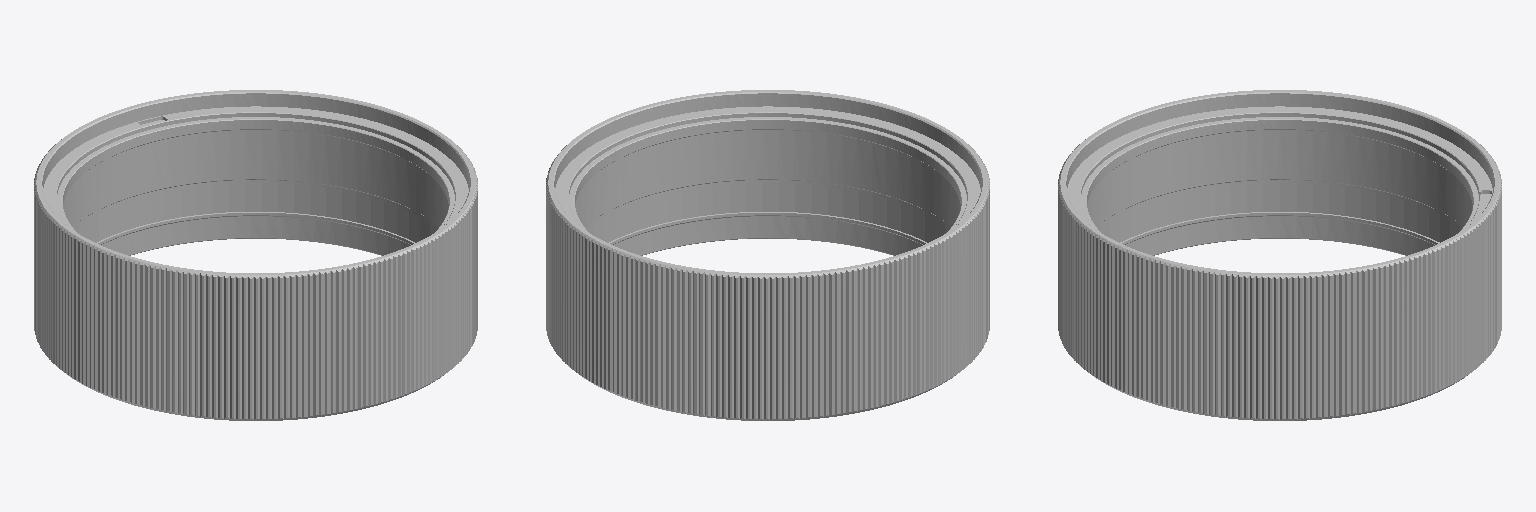
Rendered from ase022_E_2.obj.
3 views of the same model, side by side, from view 1: azimuth 30°, elevation 25°; view 2: azimuth 150°, elevation 25°; view 3: azimuth 270°, elevation 25° (orthographic).
Visible parts, largest first — view 1: object 1; view 2: object 1; view 3: object 1.
Boxes of the visible parts, <box> form: object 1: <box>34,90,477,420</box>; object 1: <box>546,90,989,420</box>; object 1: <box>1058,90,1501,420</box>.
Bounding box in the file's own units: 74 × 27 × 74.